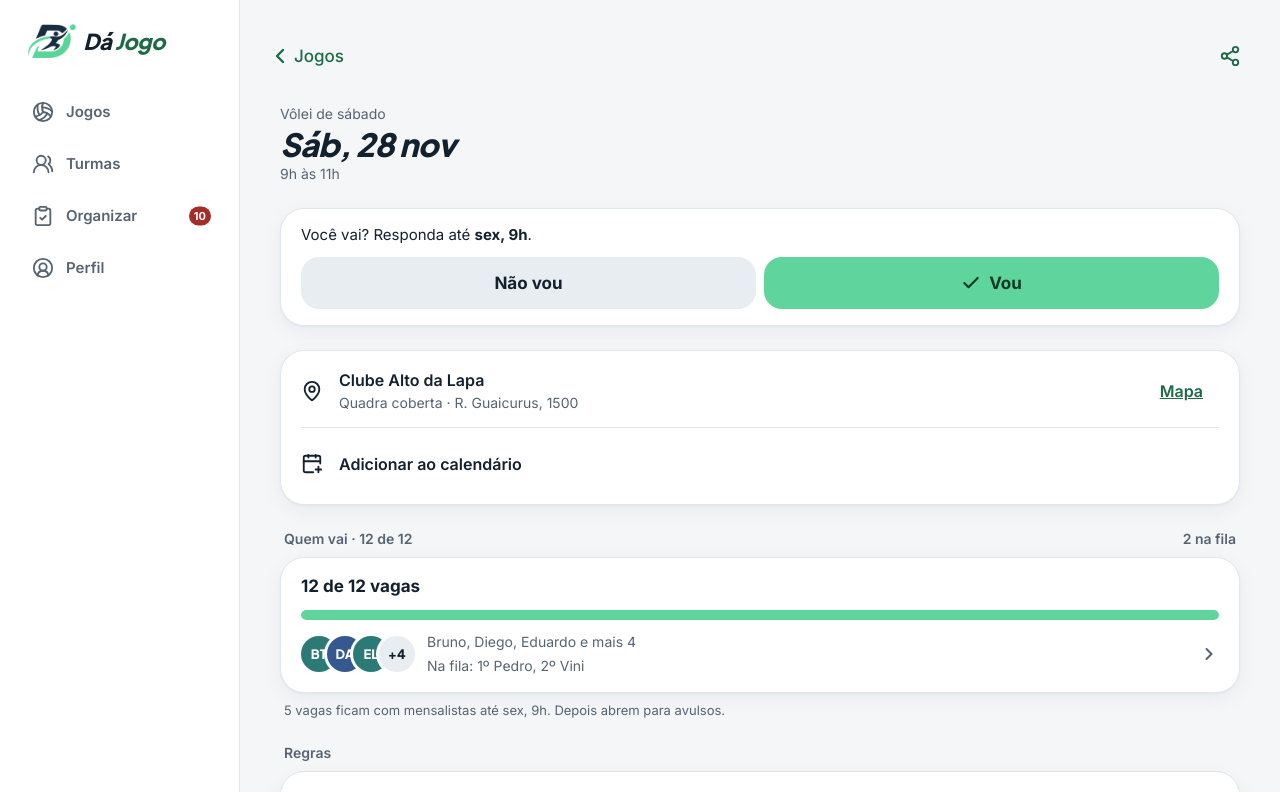
Test case: 3.4 Detalhe do jogo › tocar em quem vai abre a lista de confirmados e da fila
expect the text "Na fila: 1º Pedro, 2º Vini" is shown: met, box top-left (427, 657), bottom-right (584, 674)
Click the button with aria-label "Ver quem vai: 12 de 12, 2 na fila" at point(319, 654), box top-left (301, 632), bottom-right (1219, 676)
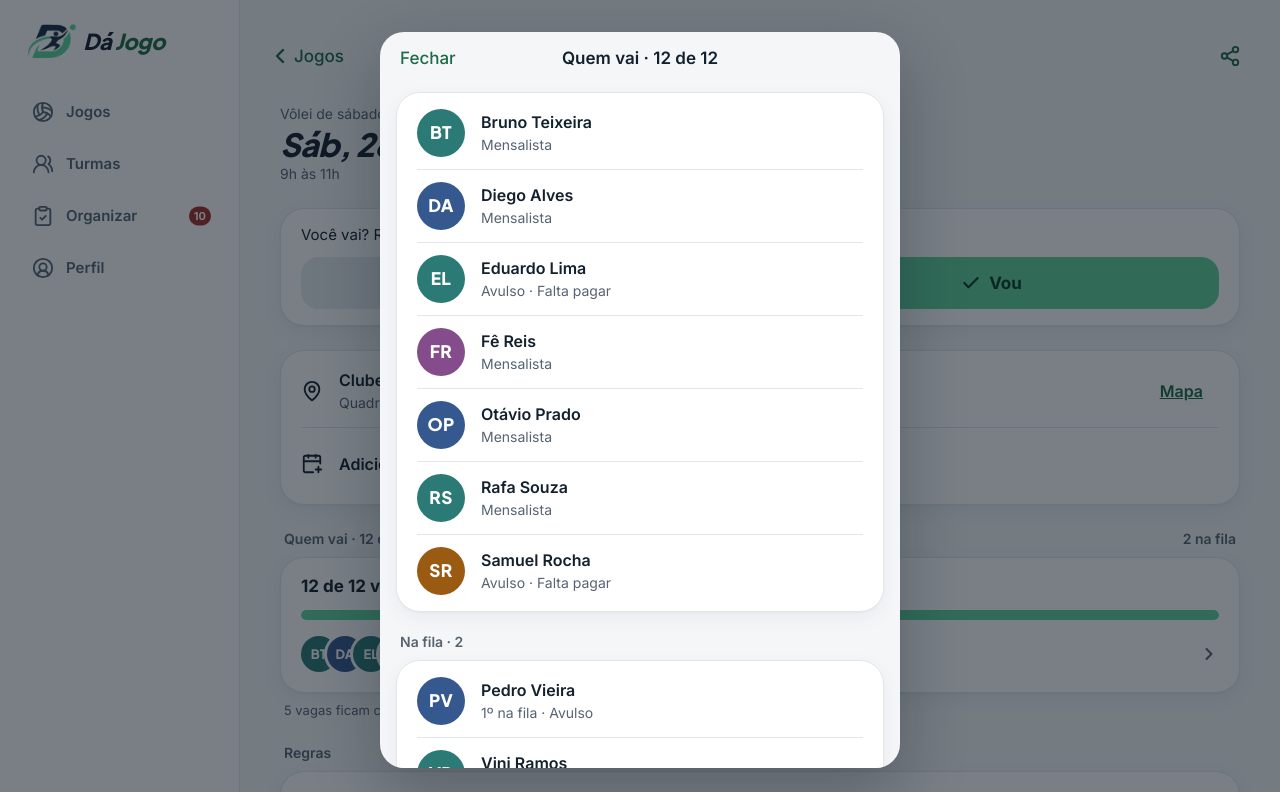
expect the list named "Confirmados" is shown: met, box top-left (396, 92), bottom-right (884, 612)
expect the text "1º na fila · Avulso" is shown: met, box top-left (480, 703), bottom-right (593, 721)
